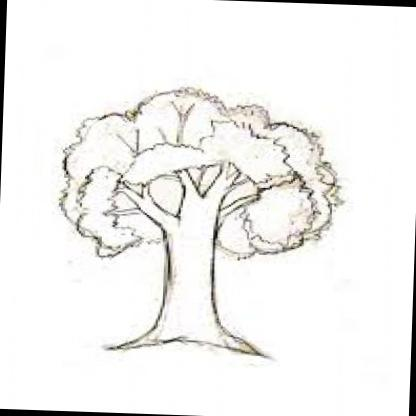branch_cut: (116, 181, 258, 235)
crown_cloud: (59, 87, 347, 267)
root_only: (108, 326, 272, 360)
trunk_straight: (157, 246, 223, 326)
